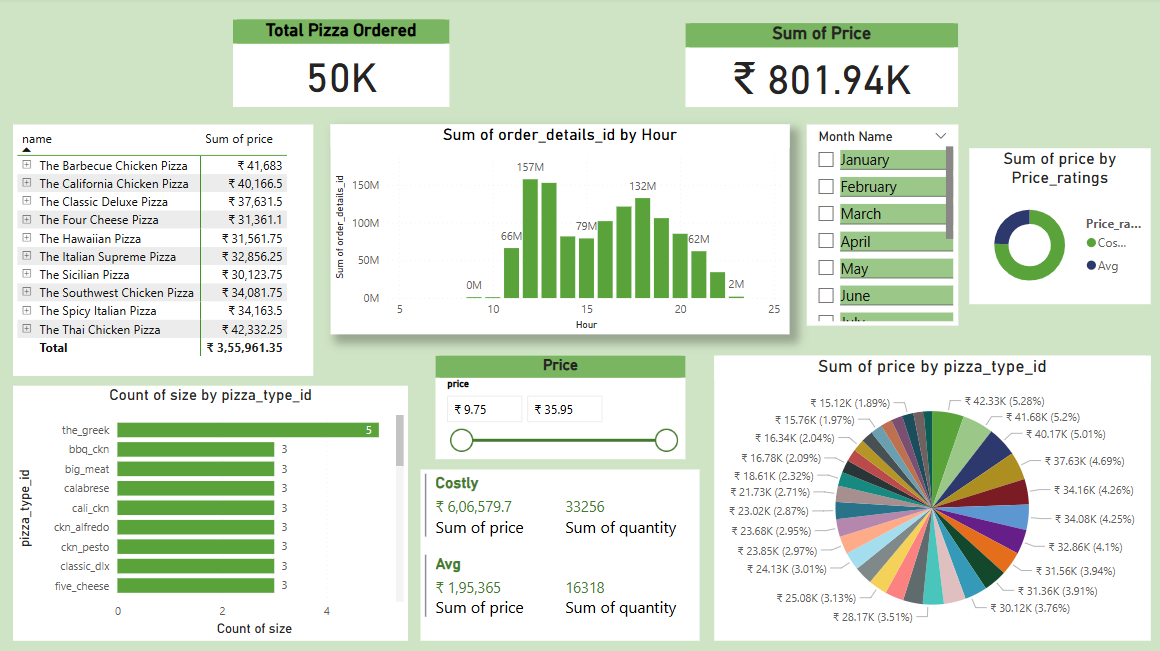

Layout of this report page (visuals, bound fields, positions):
{"tool":"powerbi","page":{"name":"Page 1","canvas":[1280,720],"ordinal":0},"visuals":[{"type":"barChart","fields":{"Y":["CountNonNull(Pizza Type.size)"],"Category":["Pizza Type.pizza_type_id"]},"box":[16.5,426.8,433.6,279.9],"z":0},{"type":"pieChart","fields":{"Category":["Pizza Ingredients.pizza_type_id"],"Y":["Sum(Details.price)"]},"box":[786.3,393.8,478.9,312.9],"z":1000},{"type":"pivotTable","fields":{"Rows":["Pizza Ingredients.name","Details.order_id"],"Values":["Sum(Details.price)"]},"box":[16.5,140,329.3,275.8],"z":2000},{"type":"slicer","fields":{"Values":["Date and time.Month Name"]},"box":[887.8,140,166,220.9],"z":3000},{"type":"card","title":"Total Pizza Ordered","fields":{"Values":["Sum(Details.quantity)"]},"box":[258,24.7,237.4,96.1],"z":4000},{"type":"multiRowCard","fields":{"Values":["Sum(Details.price)","Sum(Details.quantity)","Details.Price_ratings"]},"box":[463.8,518.7,306,188],"z":5000},{"type":"clusteredColumnChart","fields":{"Category":["Date and time.Hour"],"Y":["Sum(Details.order_details_id)"]},"box":[365,140,503.6,230.5],"z":6000},{"type":"card","title":"Sum of Price","fields":{"Values":["Sum(Details.price)"]},"box":[754.7,28.8,299.1,91.9],"z":7000},{"type":"slicer","title":"Price","fields":{"Values":["Details.price"]},"box":[480.3,393.8,274.4,113.9],"z":7001},{"type":"donutChart","fields":{"Category":["Details.Price_ratings"],"Y":["Sum(Details.price)"]},"box":[1066.2,166,199,171.5],"z":7002}]}

Visuals, with their boxes in screenshot pixels (x1, y1, x2, y2), scaled from the page's 1280x720 canvas onto the 1160x651 screenshot:
barChart - CountNonNull(Pizza Type.size) x Pizza Type.pizza_type_id: <bbox>15, 386, 408, 639</bbox>
pieChart - Pizza Ingredients.pizza_type_id x Sum(Details.price): <bbox>713, 356, 1147, 639</bbox>
pivotTable - Pizza Ingredients.name x Details.order_id: <bbox>15, 127, 313, 376</bbox>
slicer - Date and time.Month Name: <bbox>805, 127, 955, 326</bbox>
"Total Pizza Ordered" card: <bbox>234, 22, 449, 109</bbox>
multiRowCard - Sum(Details.price) x Sum(Details.quantity): <bbox>420, 469, 698, 639</bbox>
clusteredColumnChart - Date and time.Hour x Sum(Details.order_details_id): <bbox>331, 127, 787, 335</bbox>
"Sum of Price" card: <bbox>684, 26, 955, 109</bbox>
"Price" slicer: <bbox>435, 356, 684, 459</bbox>
donutChart - Details.Price_ratings x Sum(Details.price): <bbox>966, 150, 1147, 305</bbox>
